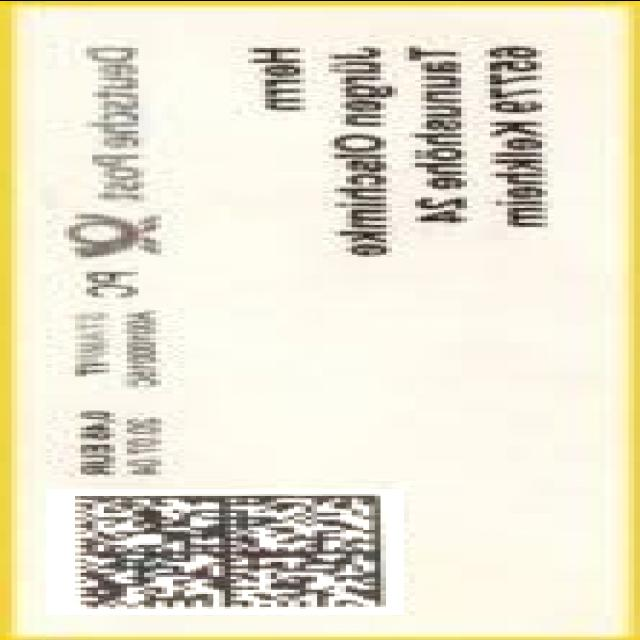DataMatrix: (46, 489, 404, 615)
